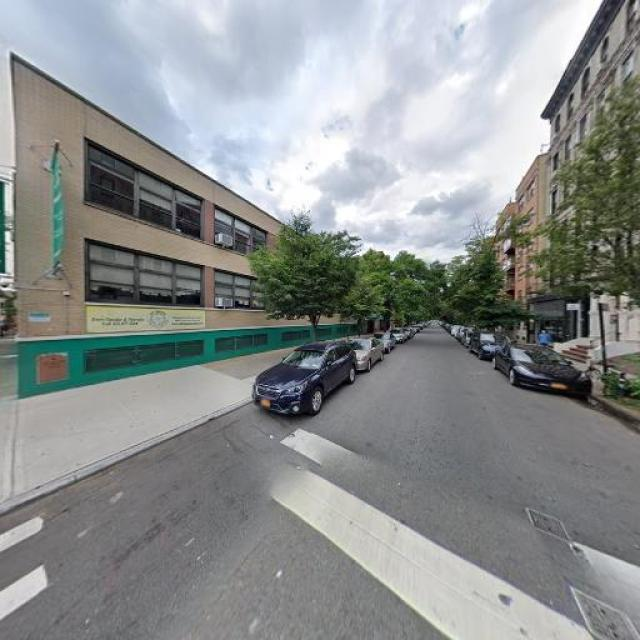Building: (20, 58, 383, 395), (553, 1, 640, 358)
